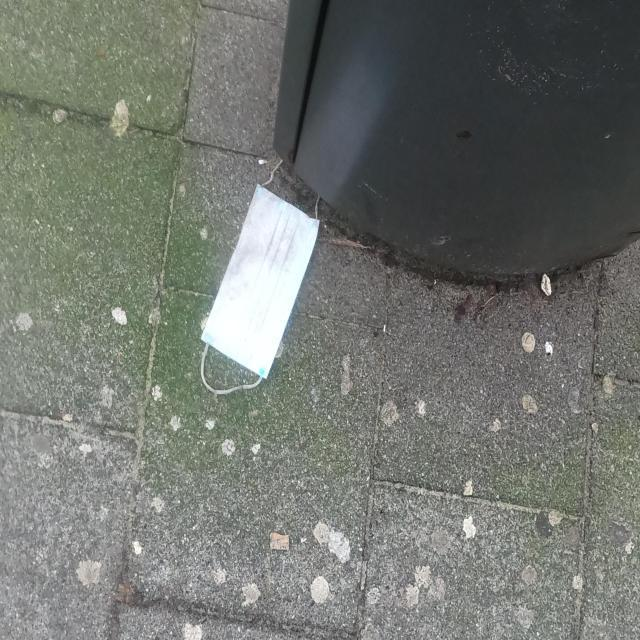Mask: (196, 155, 322, 399)
